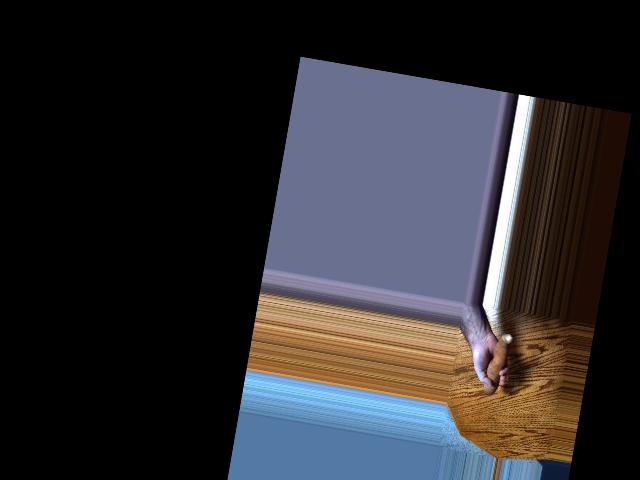sweet_potato: (478, 328, 511, 402)
